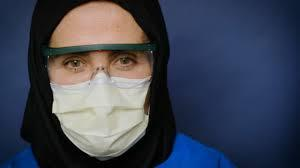Wearing Mask: (29, 0, 174, 164)
